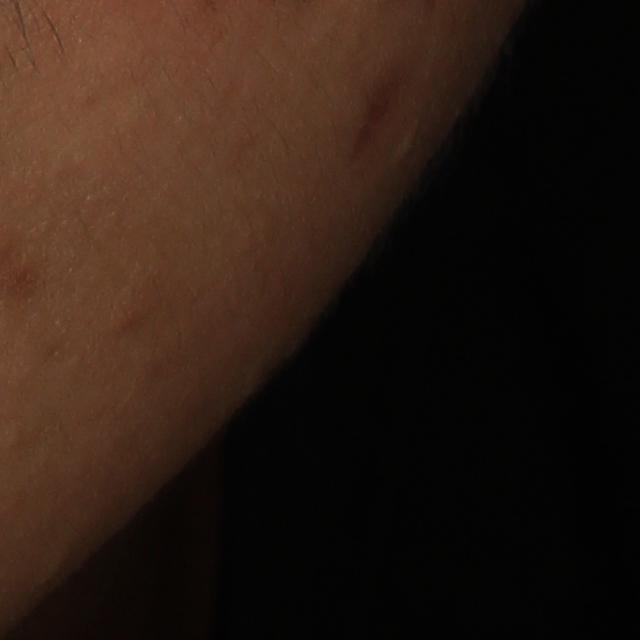atrophic_scar: (342, 70, 416, 172)
